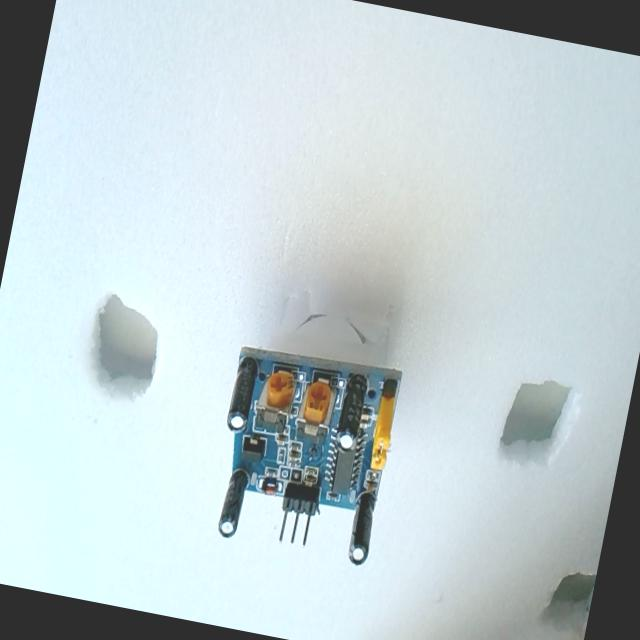Electrolytic capacitor: (218, 347, 264, 446), (214, 453, 254, 542), (332, 372, 374, 456), (347, 482, 382, 572)
IC: (320, 434, 365, 502)
